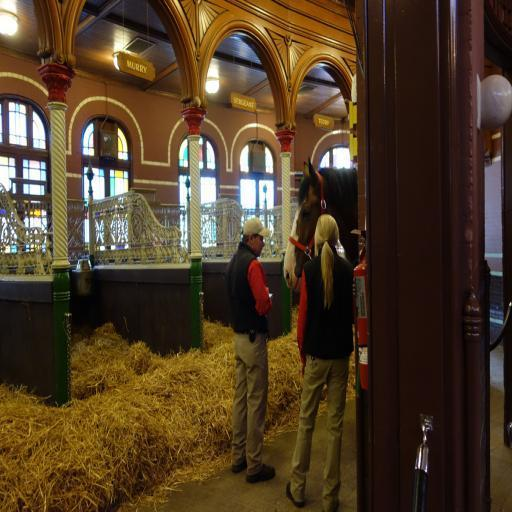horse: (282, 155, 362, 296)
